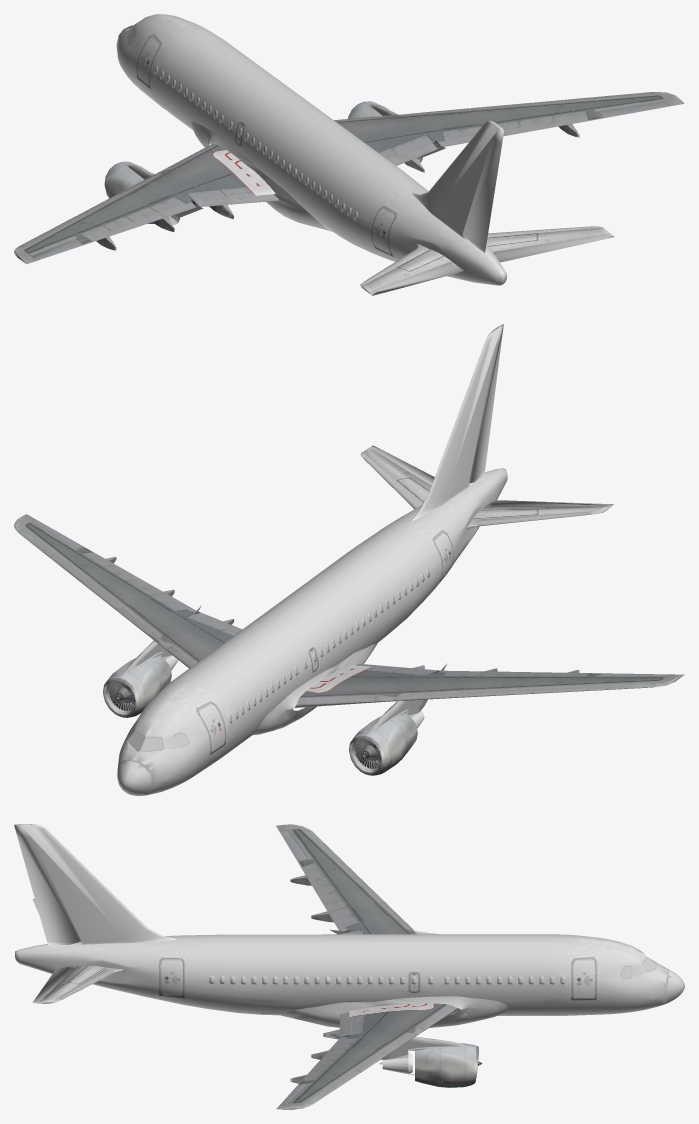
The picture shows the model from 3 angles, top to bottom: view 1: azimuth 30°, elevation 25°; view 2: azimuth 150°, elevation 25°; view 3: azimuth 270°, elevation 25°; orthographic projection. The views are drawn at different scales.
Visible parts, largest first — view 1: EngineR, CockpitWindows, Pylon_001; view 2: EngineR, CockpitWindows, Pylon_001, shroud_001; view 3: EngineR, CockpitWindows, Pylon_001, Nozzle_001.
Part boxes in pixels (x1,y1,x2,y2): EngineR: (14, 14, 684, 295); CockpitWindows: (127, 26, 357, 220); Pylon_001: (125, 104, 445, 217); EngineR: (14, 324, 684, 795); CockpitWindows: (127, 569, 429, 751); Pylon_001: (123, 605, 447, 729); shroud_001: (108, 681, 381, 768); EngineR: (14, 824, 684, 1109); CockpitWindows: (209, 958, 656, 984); Pylon_001: (329, 929, 465, 1059); Nozzle_001: (379, 1053, 412, 1073).
Bounding box in the file's own units: 33.91 × 11.65 × 33.89.
12 materials, 1 textured.
